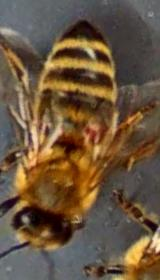varroa_mite: (76, 114, 108, 148)
